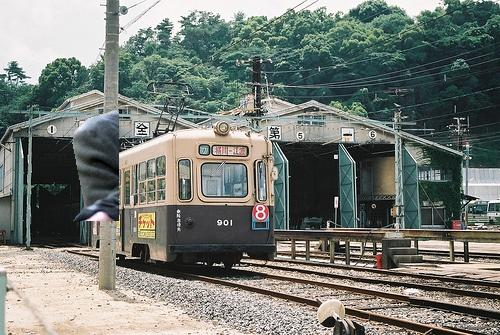tampered: (73, 111, 119, 221)
